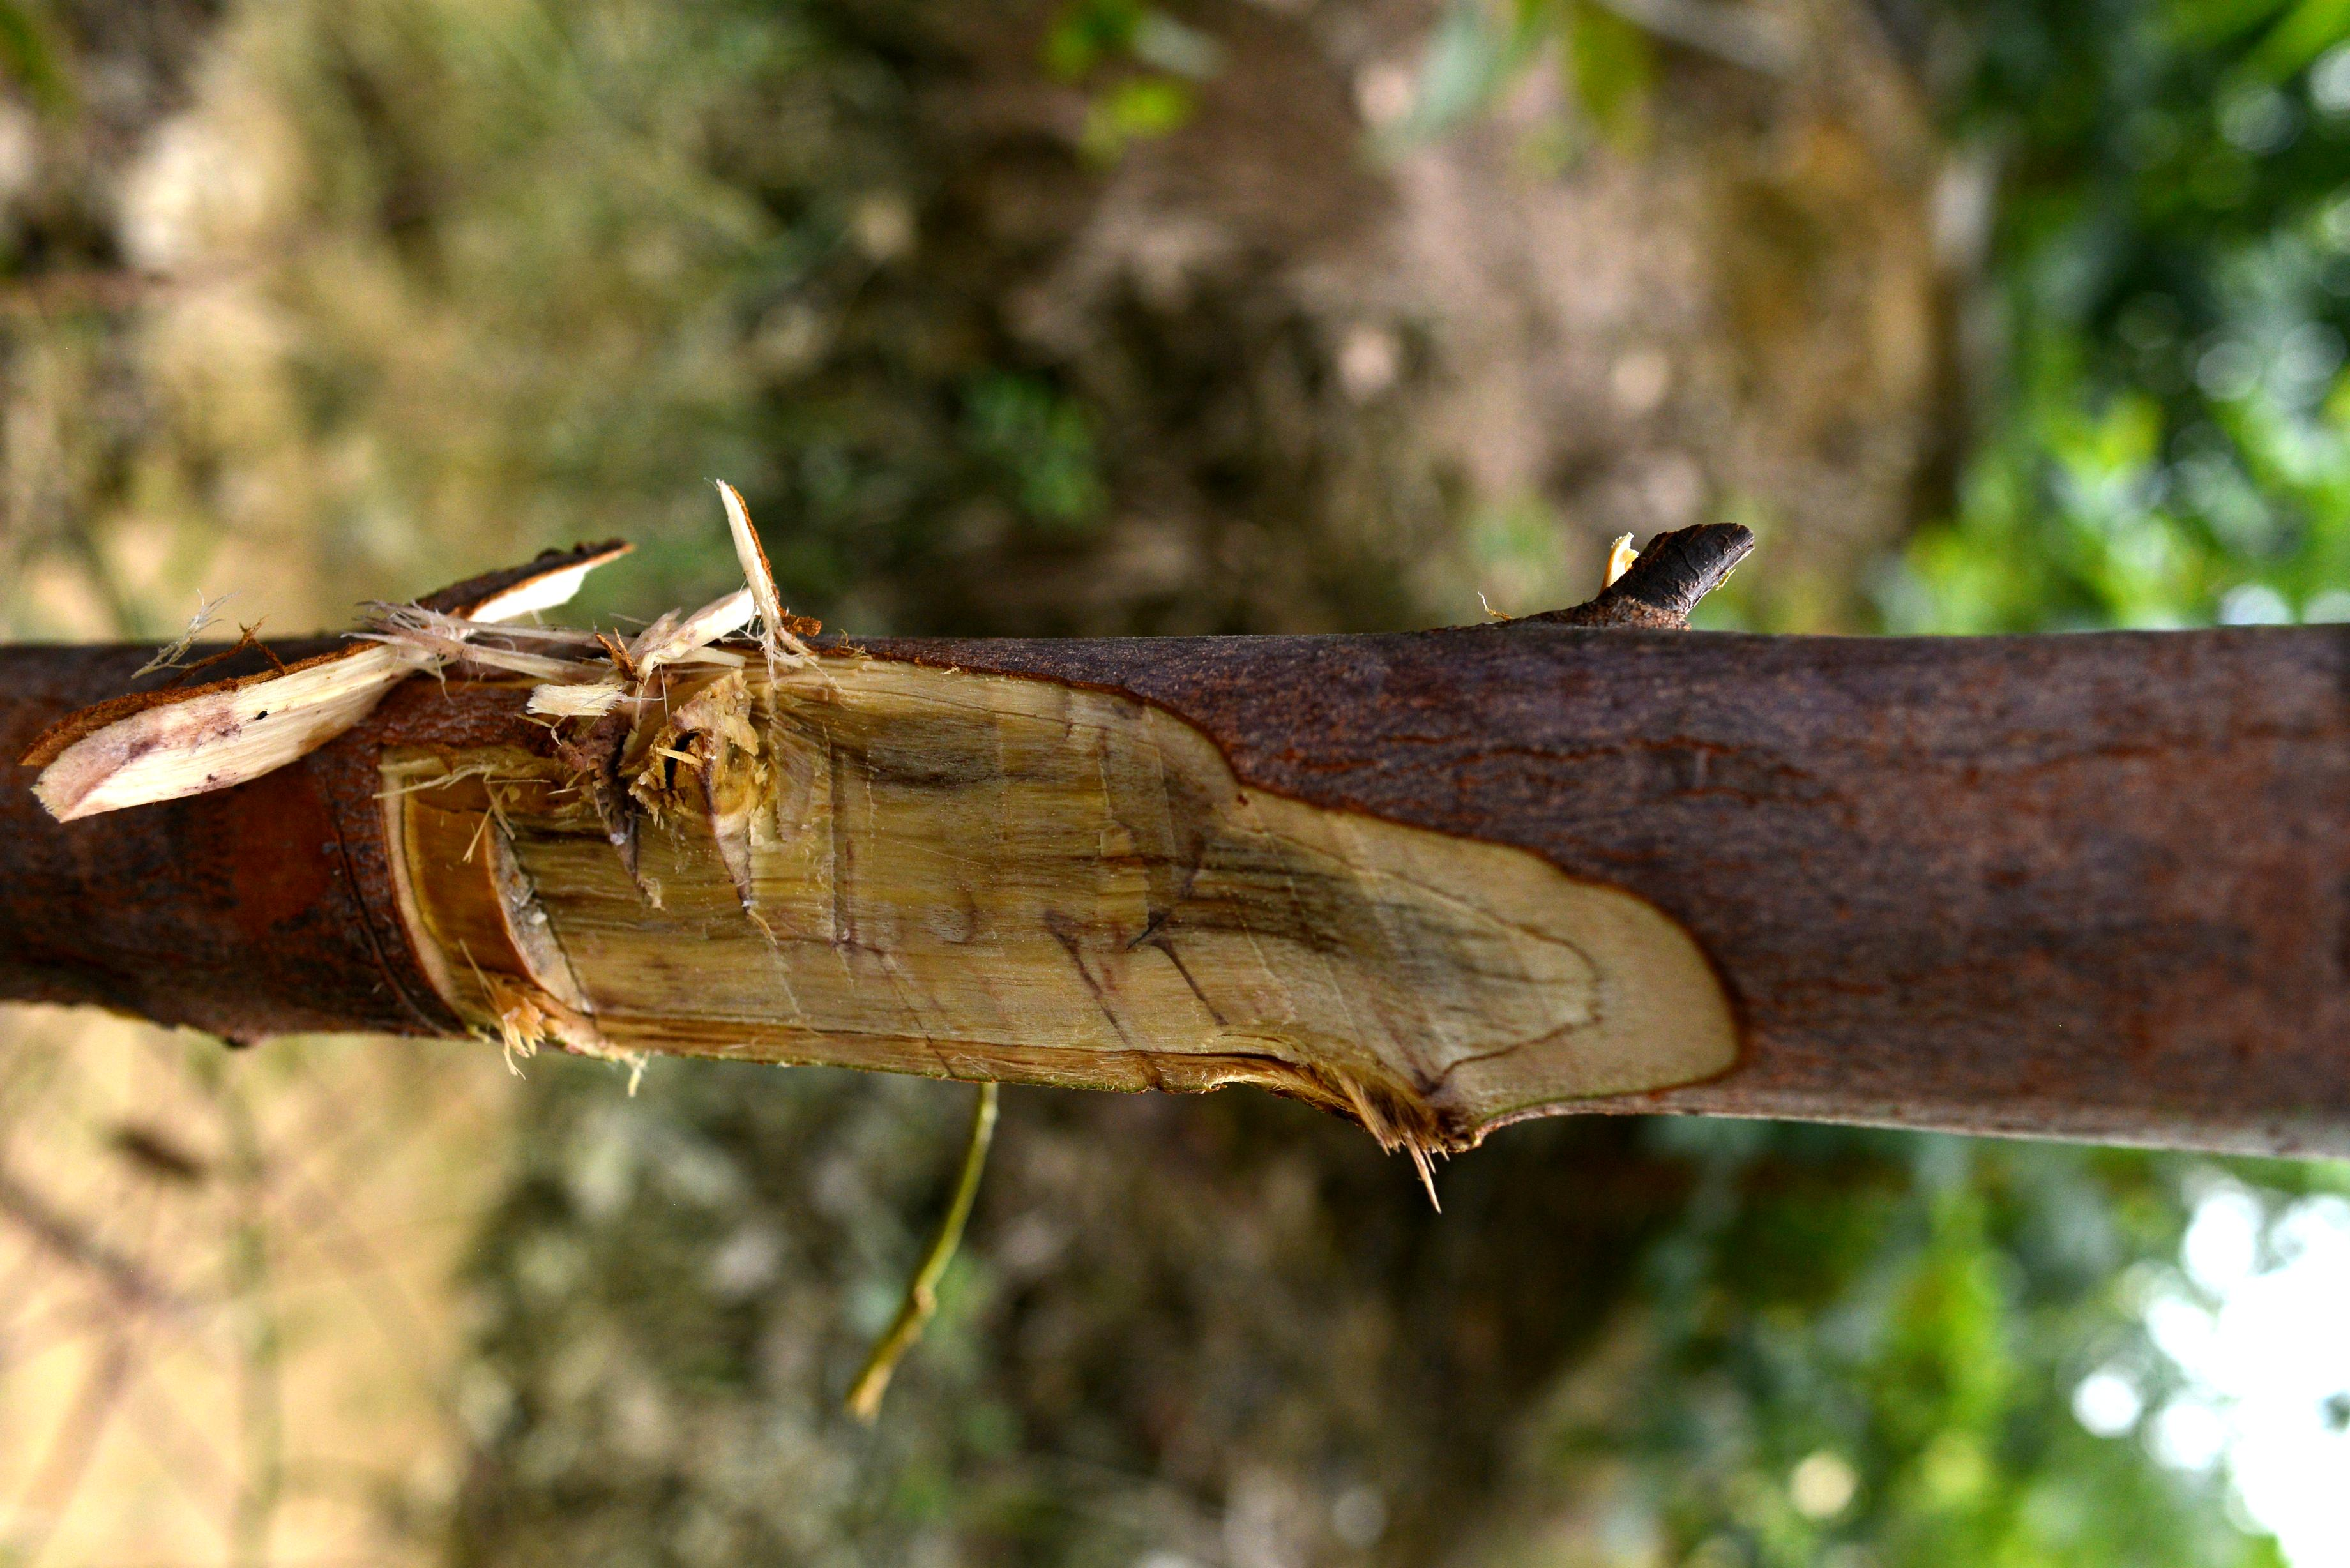Ralstonia: (367, 597, 1699, 1120)
